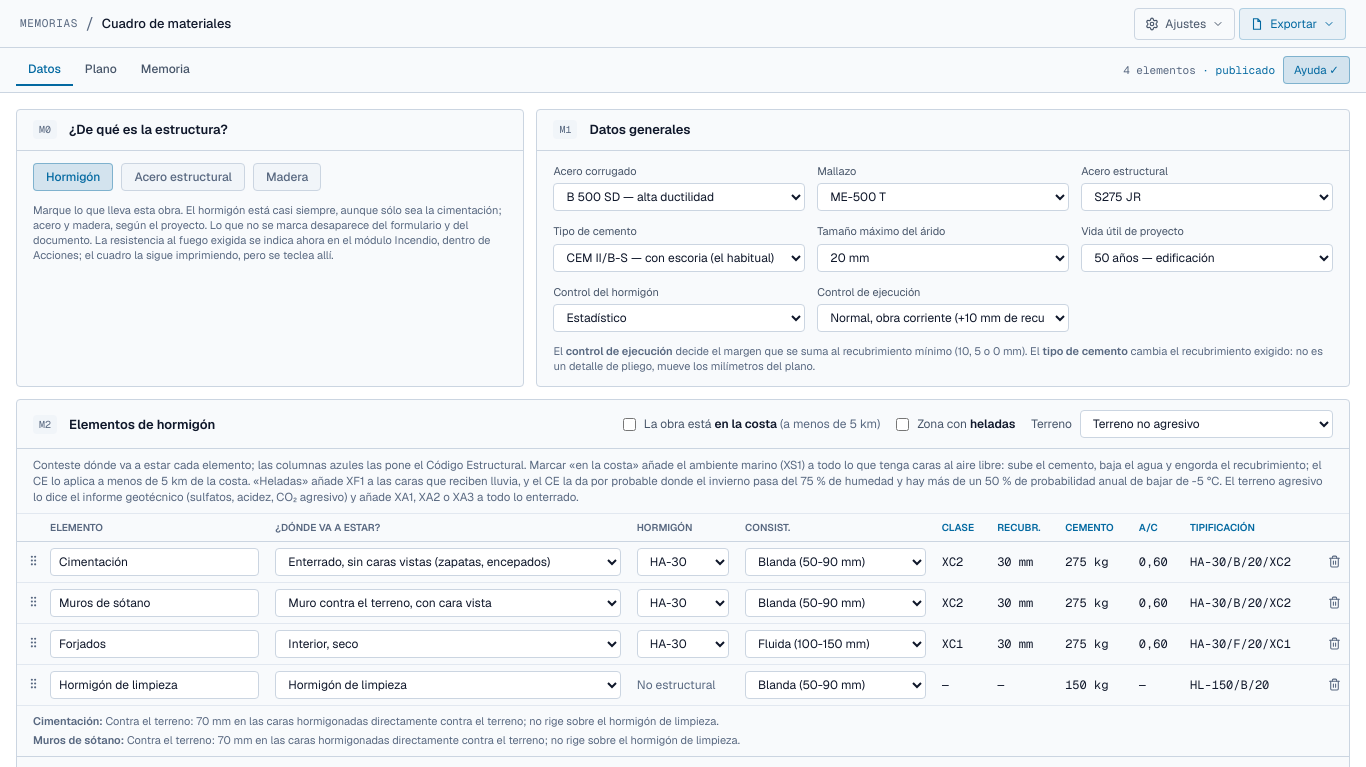
it: cambiar la respuesta mueve los derivados › bajar a HA-25 en un ambiente que exige 30 avisa y prescribe 30
Select "Exterior, a la lluvia" in the dropdown named "Dónde va a estar" in the row of "HA-30/F/20/XC1" at (448, 644), box [275,630,621,658]
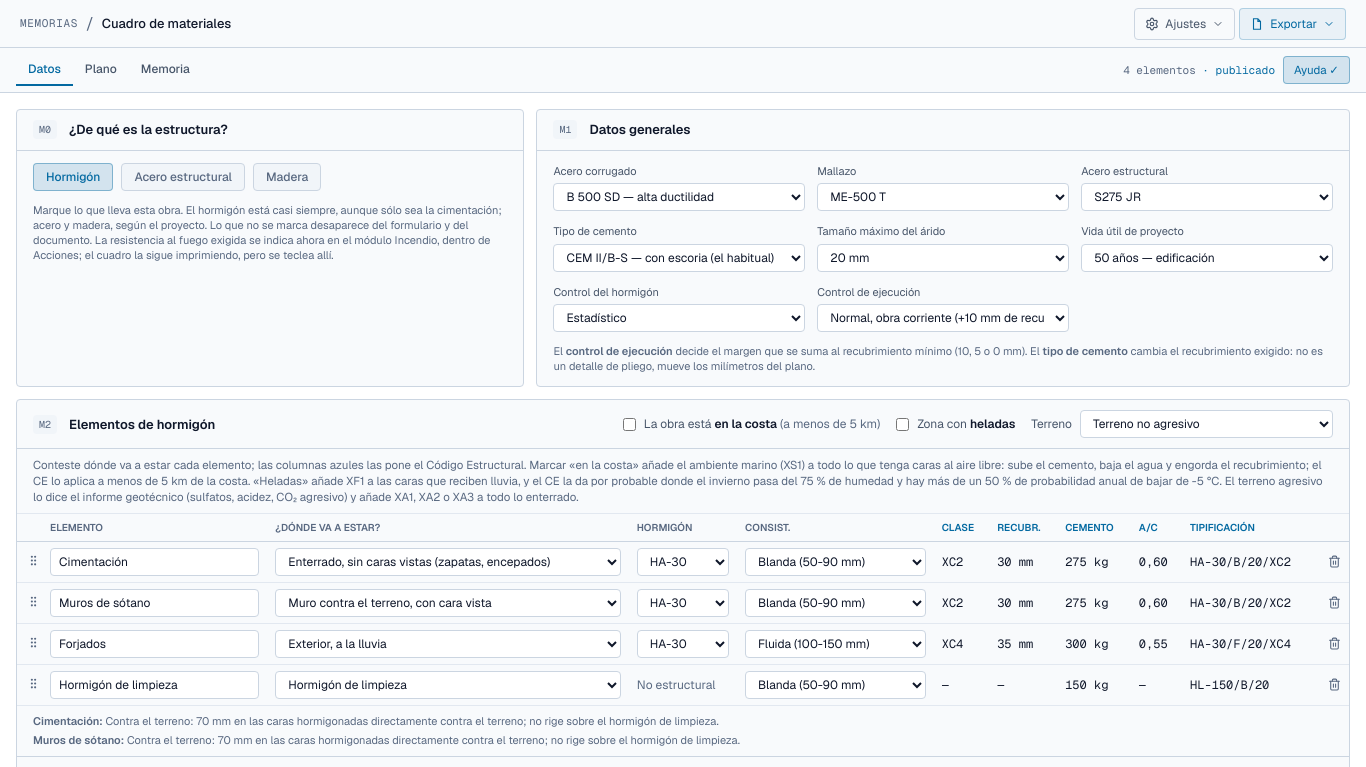
Select "HA-25" in the dropdown named "Resistencia del hormigón" in the row of "35 mm" at (683, 644), box [637,630,729,658]
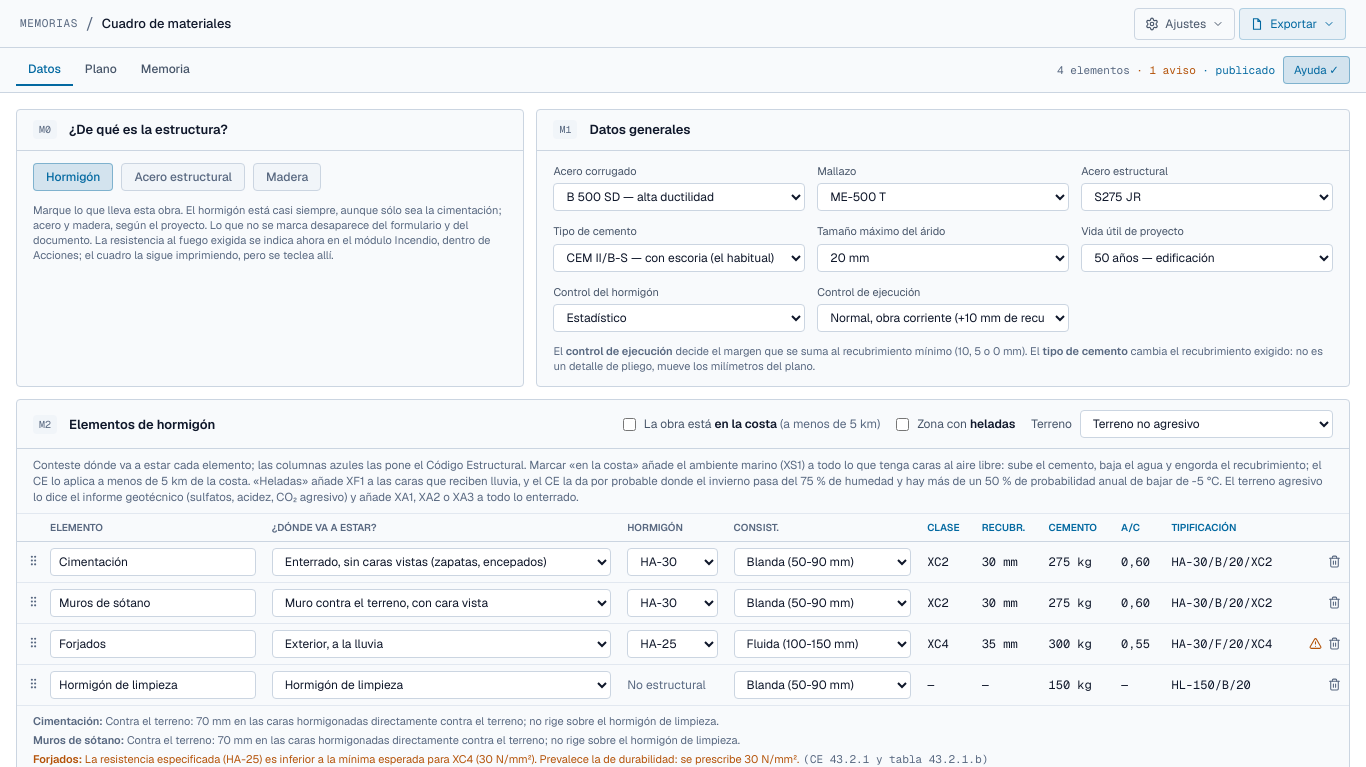
expect the text "HA-30/F/20/XC4" is shown: met, box [1164,623,1295,664]
expect the text "· 1 aviso" is shown: met, box [1130,63,1196,77]
